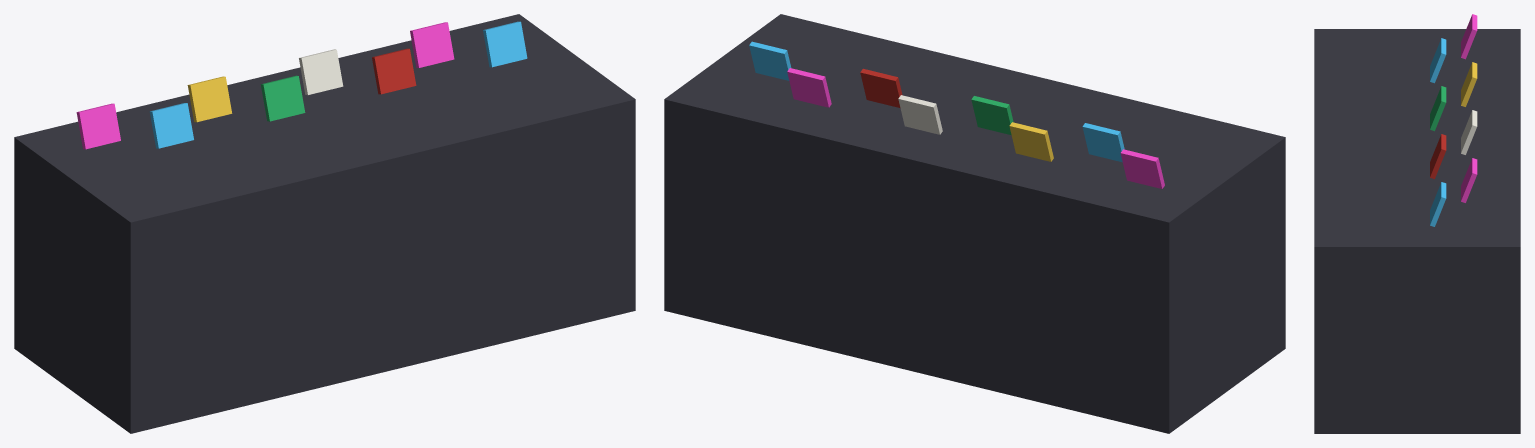
File: bin_2.glb
3 views of the same model, side by side, from view 1: azimuth 30°, elevation 25°; view 2: azimuth 150°, elevation 25°; view 3: azimuth 270°, elevation 25° (orthographic). The views are drawn at different scales.
Visible parts, largest first — view 1: Box1, Box2, Box7, Box9, Box4, Box5, Box6, Box3, Box8; view 2: Box1, Box6, Box8, Box2, Box4, Box5, Box3, Box9, Box7; view 3: Box1, Box3, Box5, Box7, Box2, Box6, Box8, Box9, Box4.
Boxes of the visible parts, left/top/right/bottom form: Box1: left=14, top=14, right=635, bottom=433; Box2: left=76, top=103, right=120, bottom=149; Box7: left=372, top=48, right=416, bottom=94; Box9: left=483, top=21, right=527, bottom=67; Box4: left=187, top=76, right=232, bottom=122; Box5: left=260, top=75, right=305, bottom=121; Box6: left=299, top=49, right=343, bottom=95; Box3: left=149, top=103, right=193, bottom=148; Box8: left=410, top=22, right=454, bottom=67; Box1: left=664, top=14, right=1285, bottom=433; Box6: left=898, top=95, right=942, bottom=134; Box8: left=787, top=68, right=831, bottom=107; Box2: left=1120, top=149, right=1164, bottom=188; Box4: left=1009, top=122, right=1053, bottom=161; Box5: left=971, top=96, right=1013, bottom=135; Box3: left=1082, top=123, right=1124, bottom=162; Box9: left=749, top=41, right=791, bottom=80; Box7: left=860, top=68, right=902, bottom=107; Box1: left=1314, top=29, right=1520, bottom=433; Box3: left=1430, top=38, right=1446, bottom=83; Box5: left=1430, top=86, right=1446, bottom=131; Box7: left=1430, top=134, right=1446, bottom=179; Box2: left=1461, top=14, right=1477, bottom=59; Box6: left=1461, top=110, right=1477, bottom=154; Box8: left=1461, top=158, right=1477, bottom=202; Box9: left=1430, top=182, right=1446, bottom=226; Box4: left=1461, top=62, right=1477, bottom=106.
Bounding box in the file's own units: 2 × 0.9345 × 0.8.
